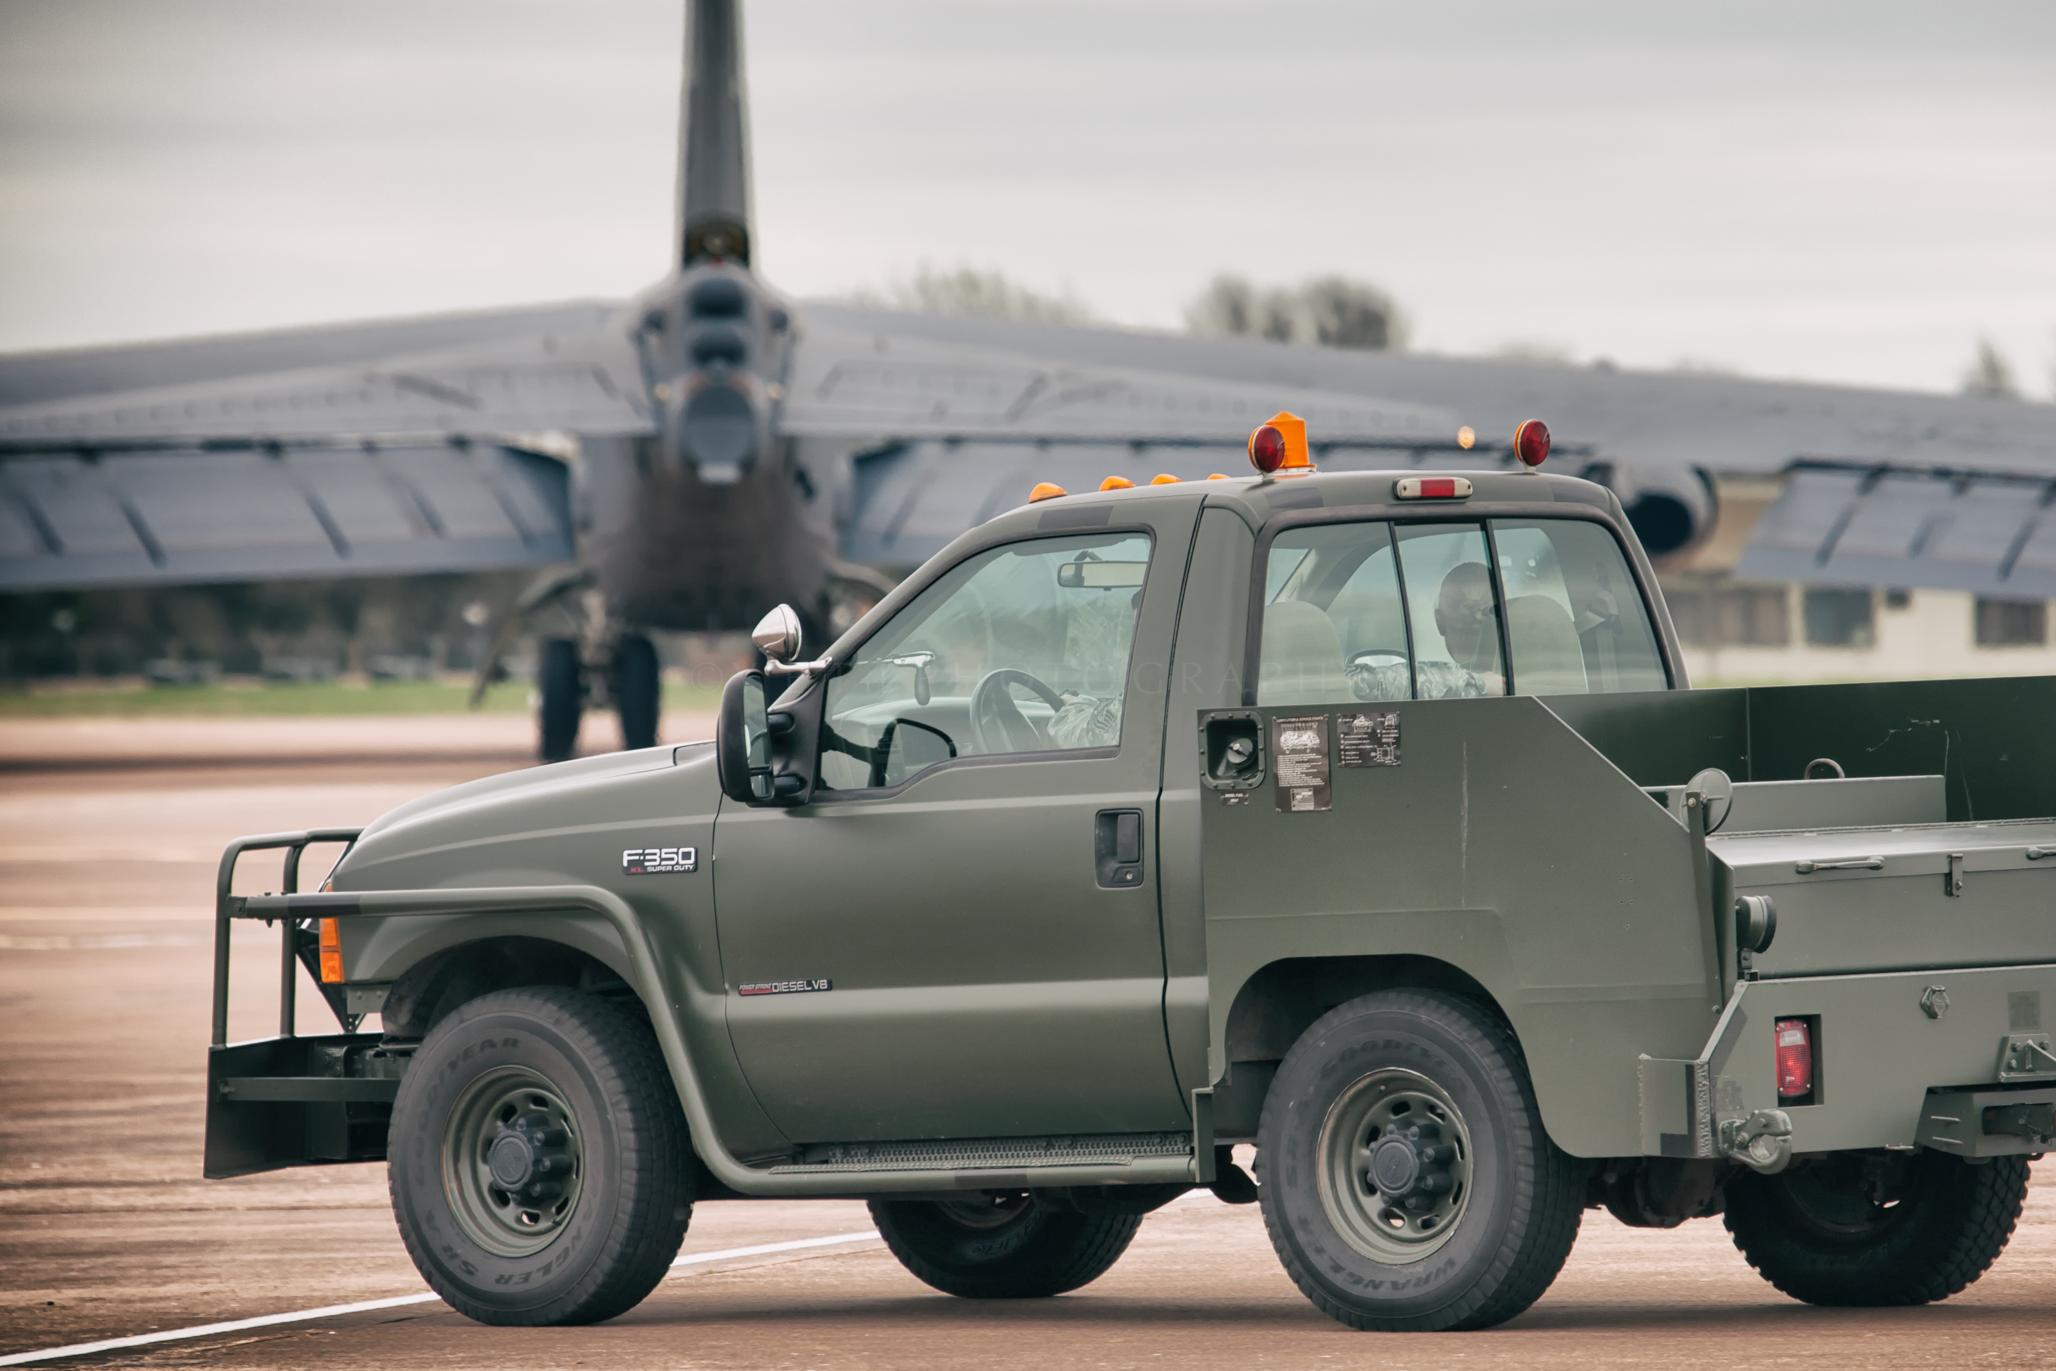B52: (2, 2, 2056, 765)
